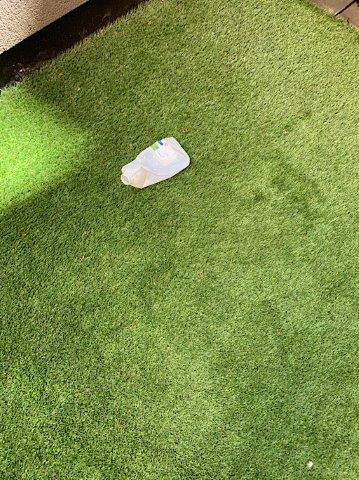botolplastik: (122, 137, 189, 188)
